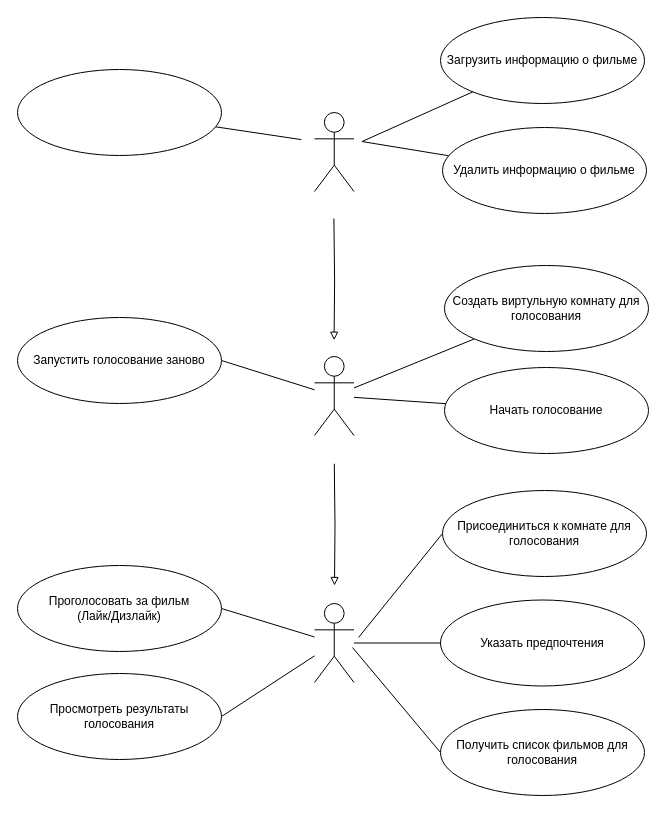
This 666x813 diagram has some shape labels left out. The shapes that lost their labels are listed below. From the top down, each one's centre as x and y in pixels, then its label:
At [119,112]: "Обновить информцию о фильме".
At [334,152]: "Администратор".
At [334,396]: "Хост голосования".
At [334,642]: "Участник голосования".
